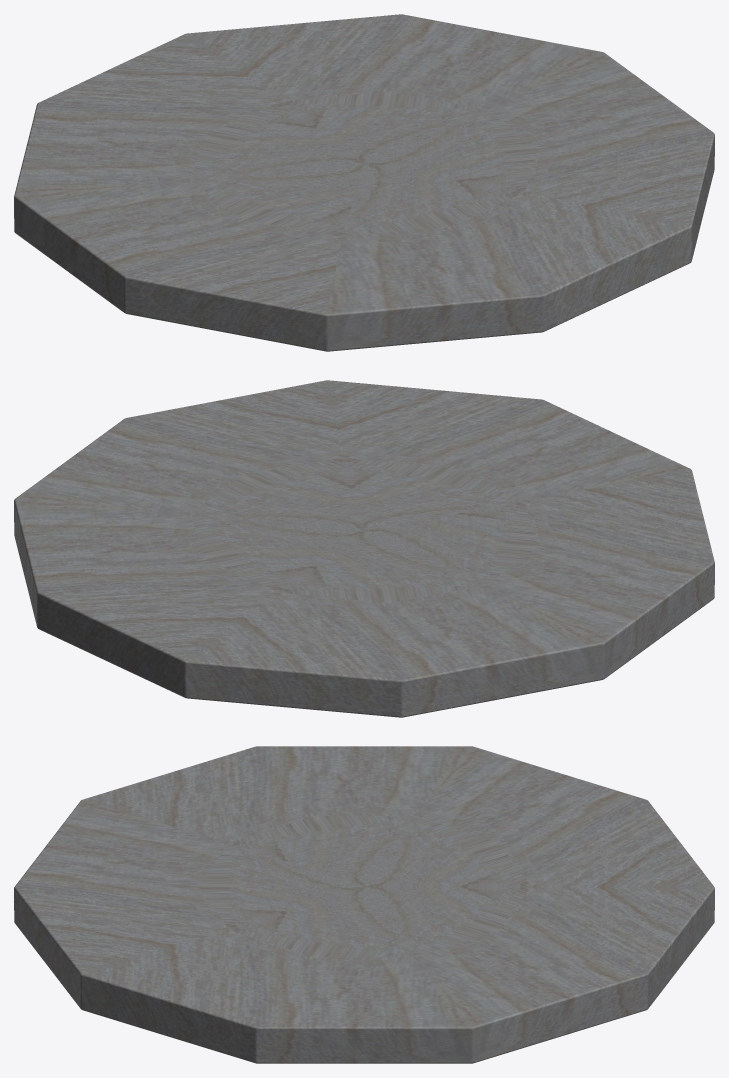
Rendered from GazeboFloor.obj.
3 renders of one model, top to bottom at view 1: azimuth 30°, elevation 25°; view 2: azimuth 150°, elevation 25°; view 3: azimuth 270°, elevation 25°, orthographic. The views are drawn at different scales.
Visible parts, largest first — view 1: GazeboRoof11; view 2: GazeboRoof11; view 3: GazeboRoof11.
Boxes of the visible parts, x1,y1,x2,y2 form: GazeboRoof11: (14, 14, 714, 351); GazeboRoof11: (14, 380, 714, 717); GazeboRoof11: (14, 746, 714, 1063).
Bounding box in the file's own units: 757 × 46.25 × 796.
Materials: 1 (1 with a texture image).
